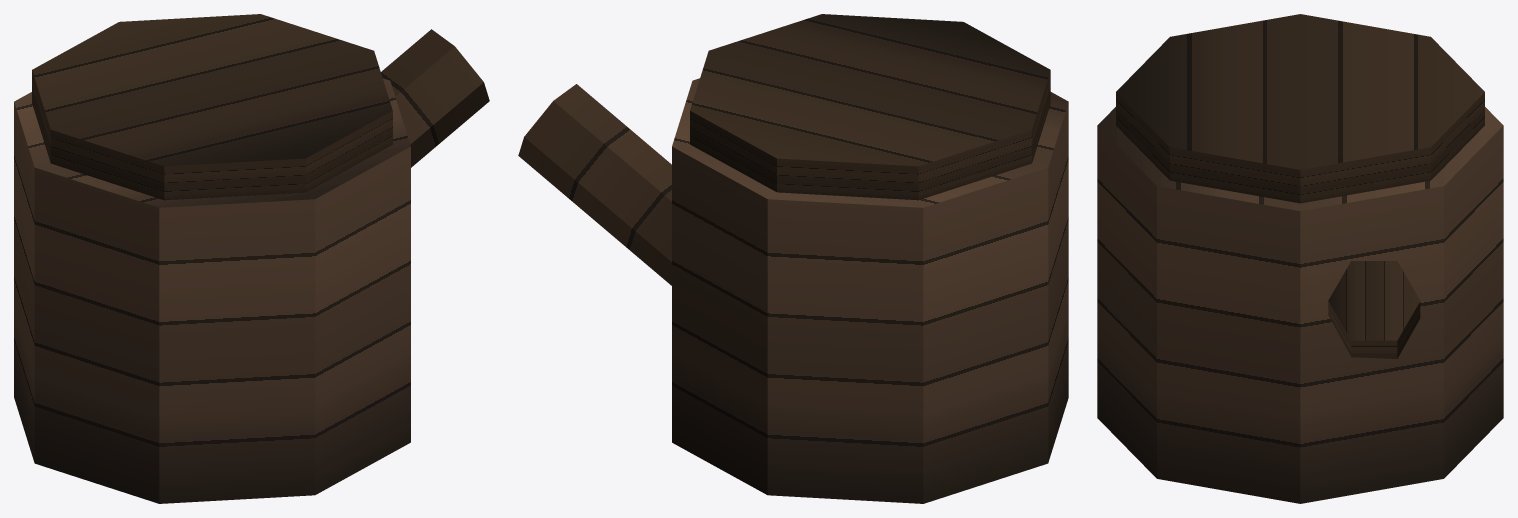
Rendered from stump.glb.
The picture shows the model from 3 angles, left to right: view 1: azimuth 30°, elevation 25°; view 2: azimuth 150°, elevation 25°; view 3: azimuth 270°, elevation 25°; orthographic projection.
Visible parts, largest first — view 1: stump; view 2: stump; view 3: stump.
Boxes of the visible parts, box(x1,y1,x2,y2) form: stump: box(14, 14, 489, 503); stump: box(518, 14, 1068, 503); stump: box(1097, 14, 1503, 503).
Size of the model in its own units: 0.5949 by 0.39 by 0.44.
1 material, 1 textured.
